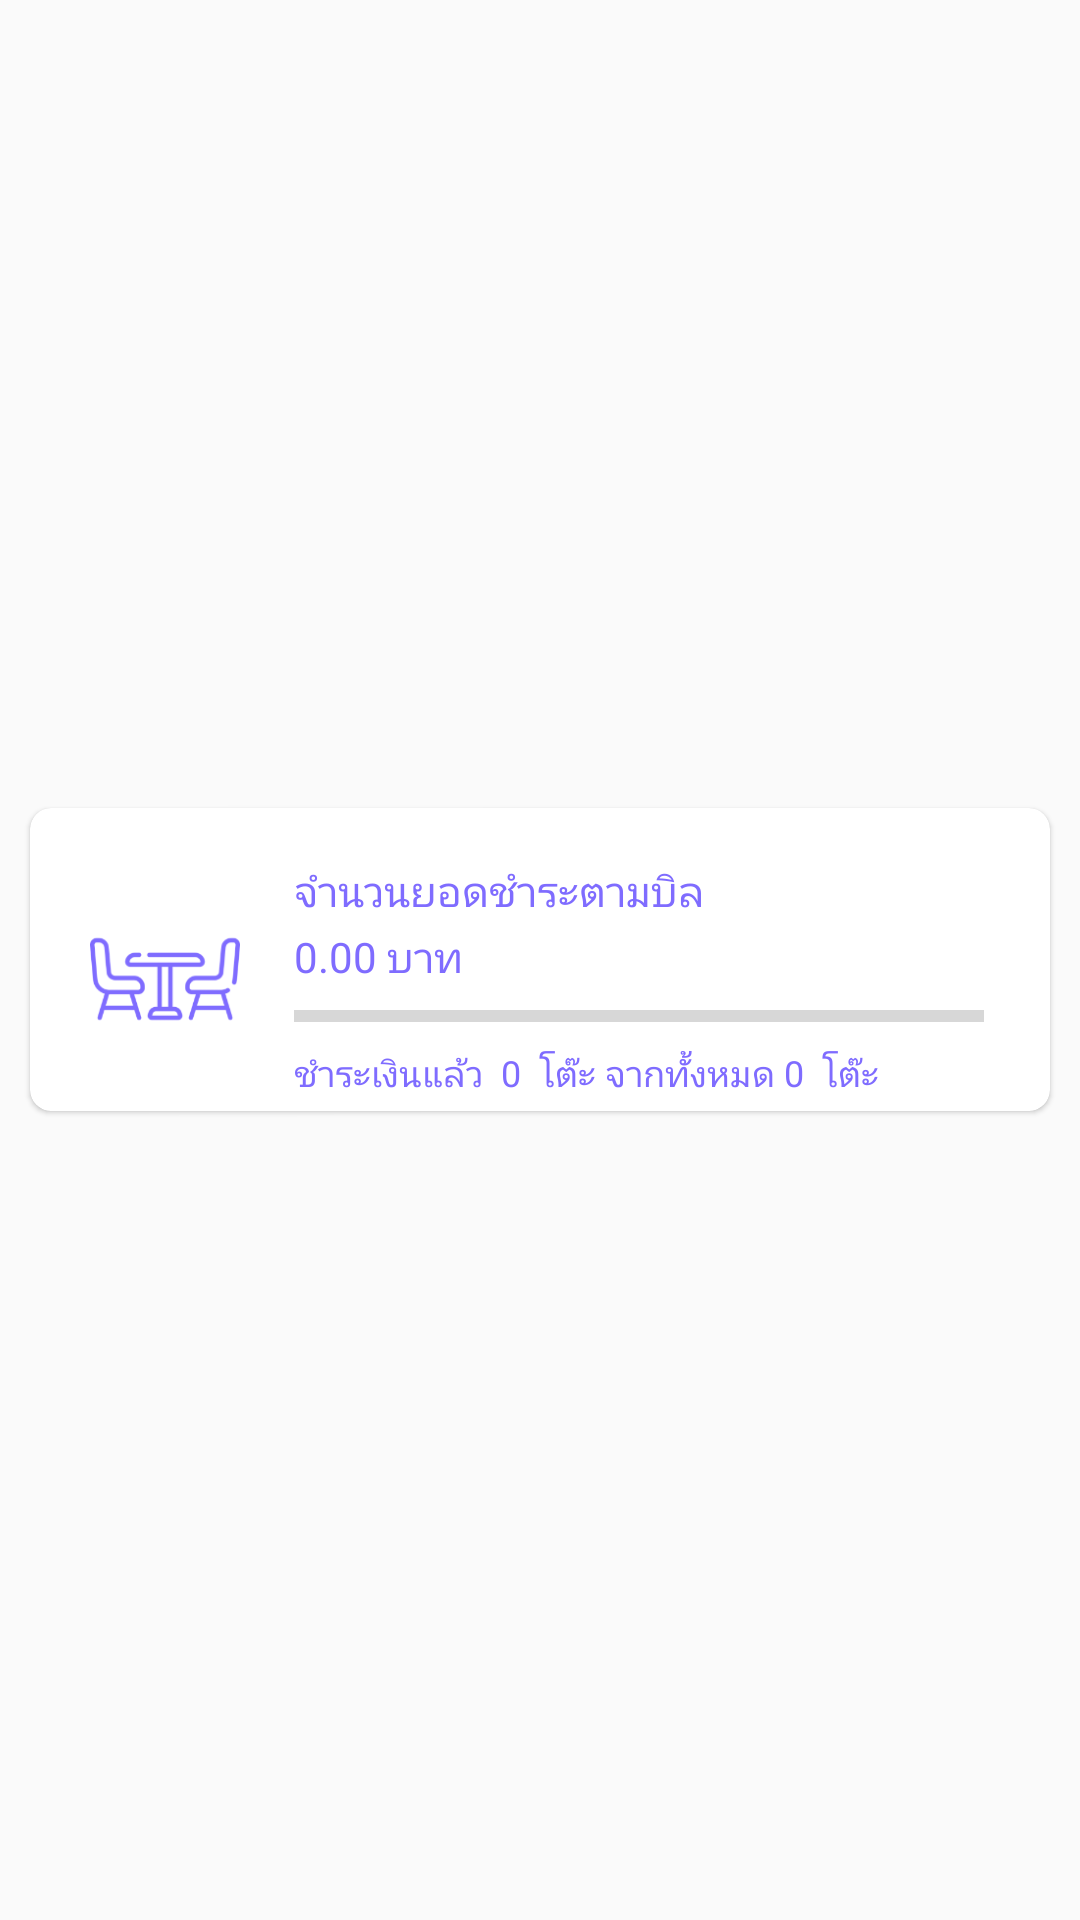

Icons on this 1080px×1920px Android screen, each with its box as bbox=(x1, y1, x2, y2):
chair: bbox=(90, 938, 240, 1021)
